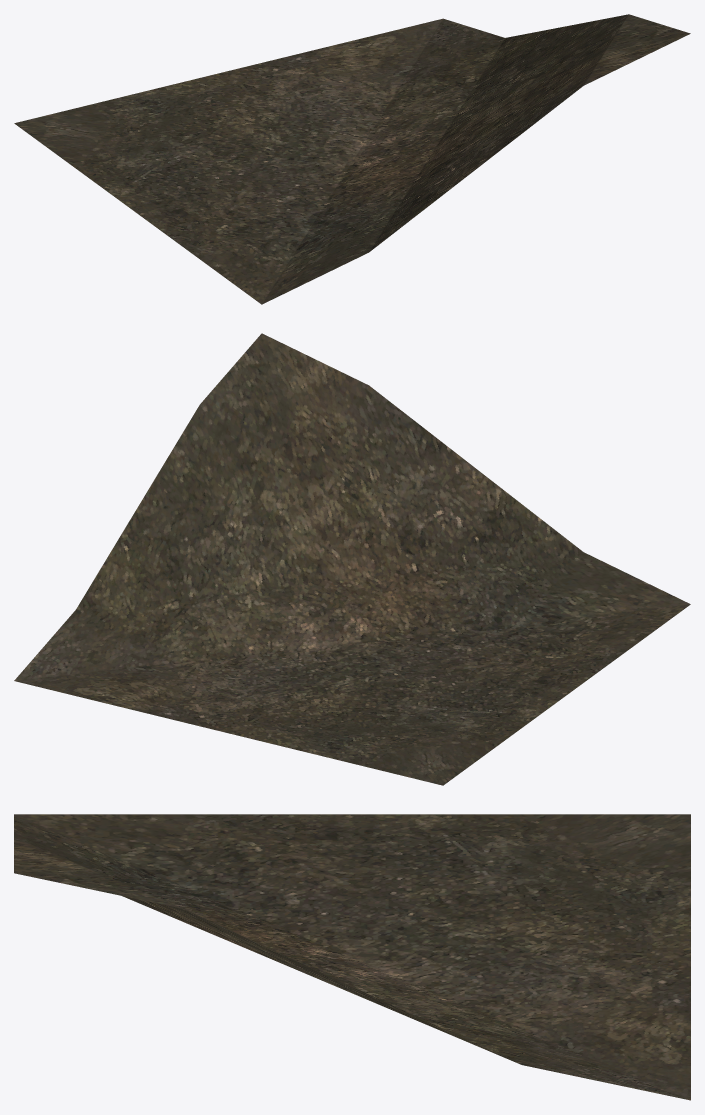
Rendered from blend_weeds01.fbx.
3 renders of one model, top to bottom at view 1: azimuth 30°, elevation 25°; view 2: azimuth 150°, elevation 25°; view 3: azimuth 270°, elevation 25°, orthographic. The views are drawn at different scales.
Visible parts, largest first — view 1: obj0.022; view 2: obj0.022; view 3: obj0.022.
Part boxes in pixels (left/top/right/bottom): obj0.022: left=14, top=14, right=690, bottom=304; obj0.022: left=14, top=333, right=690, bottom=785; obj0.022: left=14, top=814, right=690, bottom=1100.
Size of the model in its own units: 10 by 3.7 by 10.
